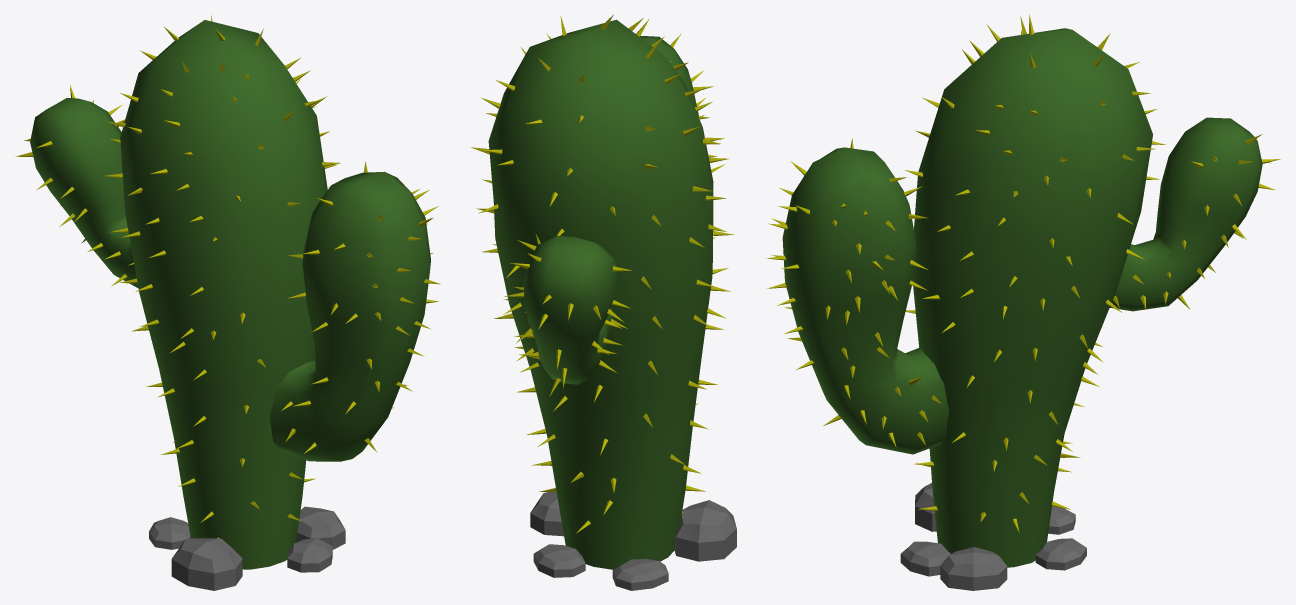
The model's file is SM_Cactus.FBX.
3 views of the same model, side by side, from view 1: azimuth 30°, elevation 25°; view 2: azimuth 150°, elevation 25°; view 3: azimuth 270°, elevation 25° (orthographic). The views are drawn at different scales.
Parts seen in each view (by area): view 1: SM_Cactus; view 2: SM_Cactus; view 3: SM_Cactus.
Part boxes in pixels (x1,y1,x2,y2): SM_Cactus: (15, 15, 440, 590); SM_Cactus: (471, 14, 736, 590); SM_Cactus: (766, 14, 1280, 590).
Bounding box in the file's own units: 119 × 249 × 221.
